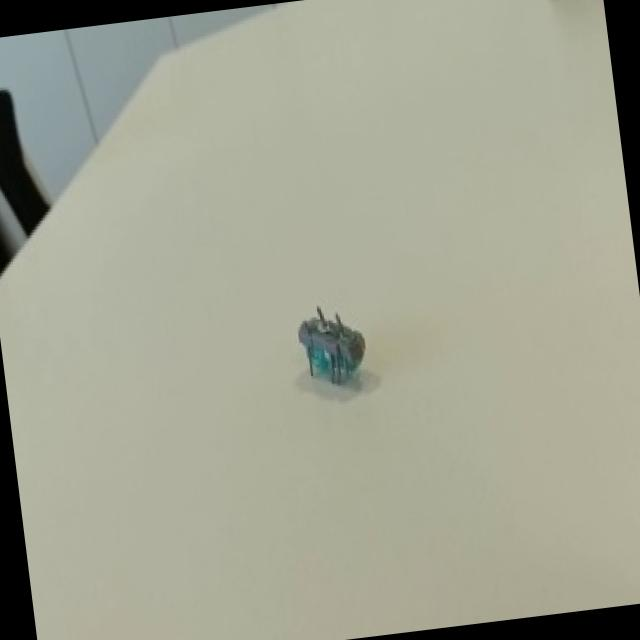5_NanoBug_GrisClaro: (269, 274, 390, 438)
